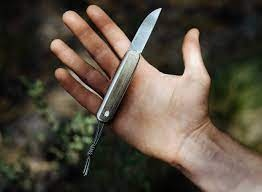knife: (95, 6, 164, 125)
